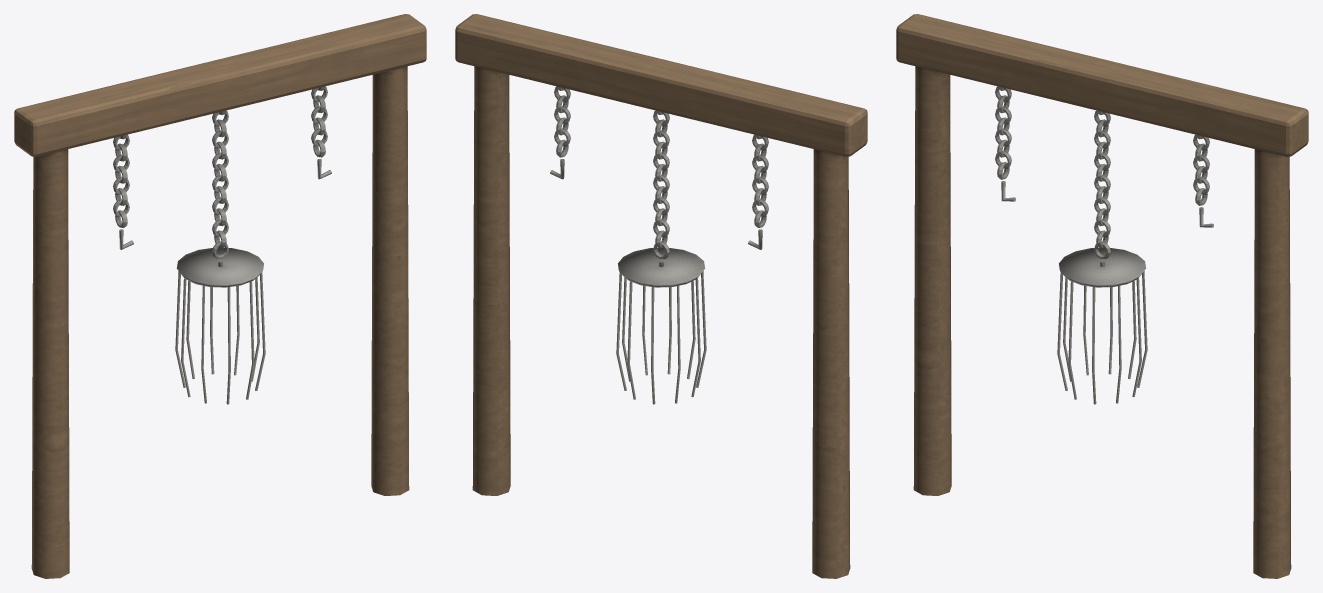
The model's file is dg_correntes.glb.
3 views of the same model, side by side, from view 1: azimuth 30°, elevation 25°; view 2: azimuth 150°, elevation 25°; view 3: azimuth 330°, elevation 25° (orthographic).
Visible parts, largest first — view 1: dg_correntes_tronco; view 2: dg_correntes_tronco; view 3: dg_correntes_tronco.
Boxes of the visible parts, x1,y1,x2,y2 form: dg_correntes_tronco: [14, 14, 426, 578]; dg_correntes_tronco: [455, 14, 867, 578]; dg_correntes_tronco: [896, 14, 1308, 578].
Size of the model in its own units: 2.8 by 3.12 by 0.54.
Materials: 1 (1 with a texture image).
